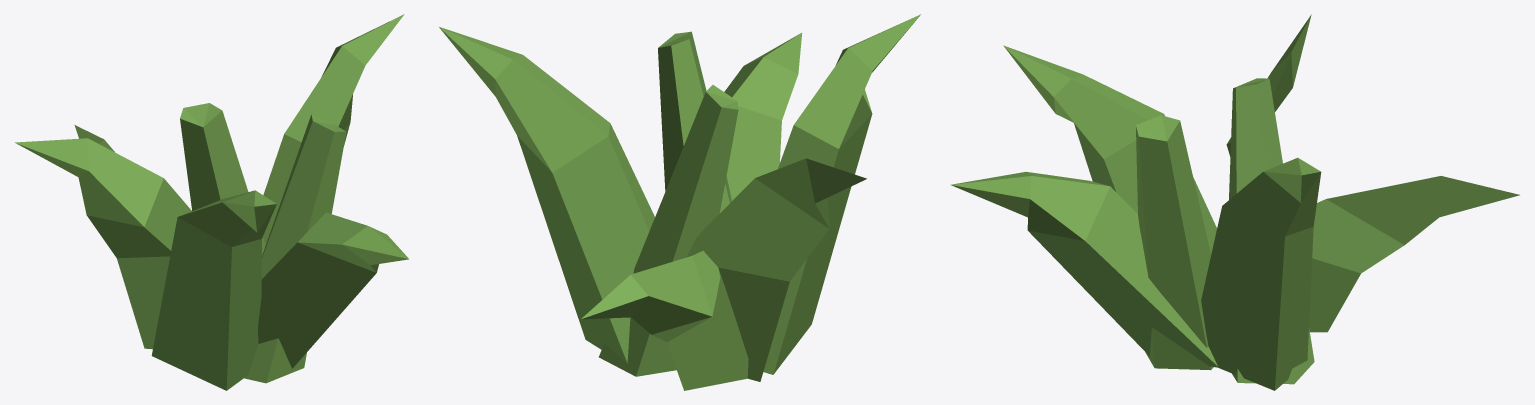
Rendered from Grass2.fbx.
The picture shows the model from 3 angles, left to right: view 1: azimuth 30°, elevation 25°; view 2: azimuth 150°, elevation 25°; view 3: azimuth 270°, elevation 25°; orthographic projection. The views are drawn at different scales.
Parts seen in each view (by area): view 1: pCylinder9; view 2: pCylinder9; view 3: pCylinder9.
Boxes of the visible parts, bbox=[...] form: pCylinder9: bbox=[15, 14, 408, 390]; pCylinder9: bbox=[439, 14, 921, 390]; pCylinder9: bbox=[950, 14, 1519, 390].
Size of the model in its own units: 4.25 by 2.77 by 5.08.
